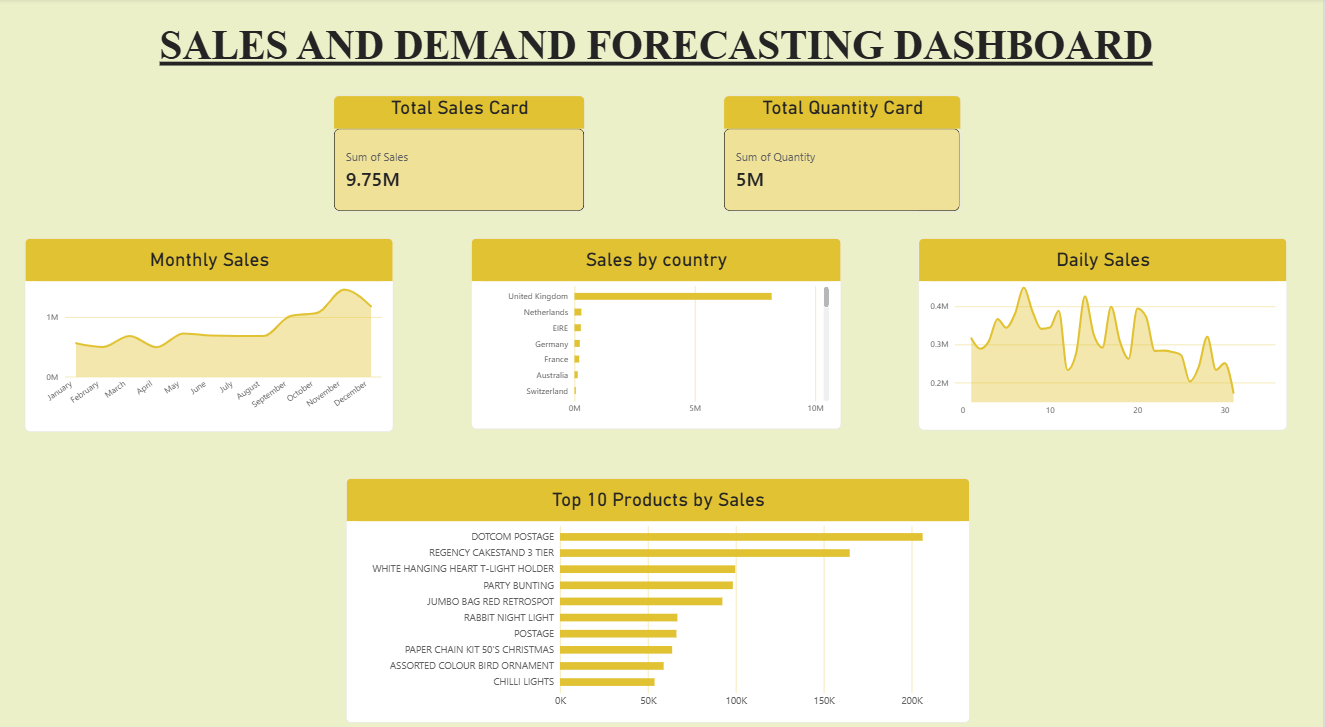

The dashboard page shown, as its layout file describes it:
{"tool":"powerbi","page":{"name":"Page 1","canvas":[1920,1080],"ordinal":0},"visuals":[{"type":"cardVisual","title":"Total Sales Card","fields":{"Data":["Sum(Online Retail.Sales)"]},"box":[487.8,142,364.3,168.8],"z":0},{"type":"cardVisual","title":"Total Quantity Card","fields":{"Data":["Sum(Online Retail.Quantity)"]},"box":[1053.9,142,343.7,168.8],"z":1},{"type":"lineChart","title":"Monthly Sales","fields":{"Category":["Online Retail.InvoiceDate.Variation.Date Hierarchy.Month"],"Y":["Sum(Online Retail.Sales)"]},"box":[41.6,347.5,533.8,280.5],"z":2},{"type":"clusteredBarChart","title":"Sales by country","fields":{"Category":["Online Retail.Country"],"Y":["Sum(Online Retail.Sales)"]},"box":[687.7,347.5,535.7,276.9],"z":3},{"type":"lineChart","title":"Daily Sales","fields":{"Category":["Online Retail.InvoiceDate.Variation.Date Hierarchy.Day"],"Y":["Sum(Online Retail.Sales)"]},"box":[1335.5,347.5,533.8,278.7],"z":4},{"type":"textbox","box":[10.3,37,1889.5,127.6],"z":5},{"type":"clusteredBarChart","title":"Top 10 Products by Sales","fields":{"Category":["Online Retail.Description"],"Y":["Sum(Online Retail.Sales)"]},"box":[506.7,694.9,903,354.7],"z":6}]}

Visuals, with their boxes in screenshot pixels (x1, y1, x2, y2), scaled from the page's 1920x1080 canvas onto the 1325x727 screenshot:
"Total Sales Card" cardVisual: <box>337,96,588,209</box>
"Total Quantity Card" cardVisual: <box>727,96,964,209</box>
"Monthly Sales" lineChart: <box>29,234,397,423</box>
"Sales by country" clusteredBarChart: <box>475,234,844,420</box>
"Daily Sales" lineChart: <box>922,234,1290,422</box>
textbox: <box>7,25,1311,111</box>
"Top 10 Products by Sales" clusteredBarChart: <box>350,468,973,707</box>
